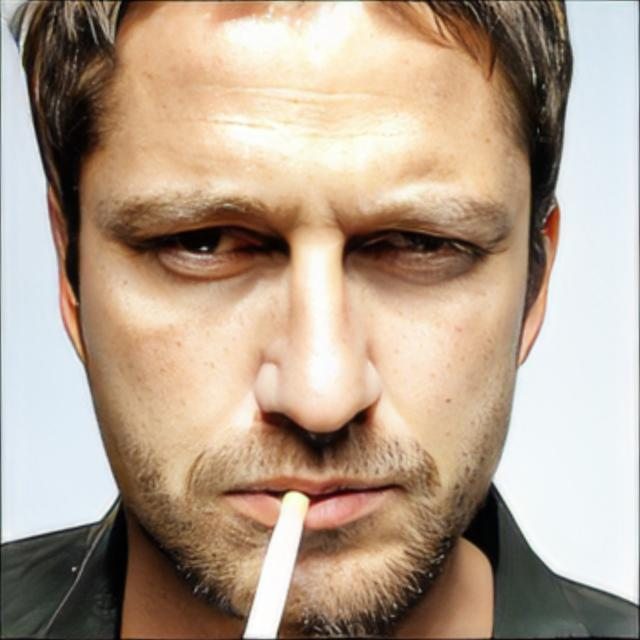anger: (76, 11, 519, 602)
